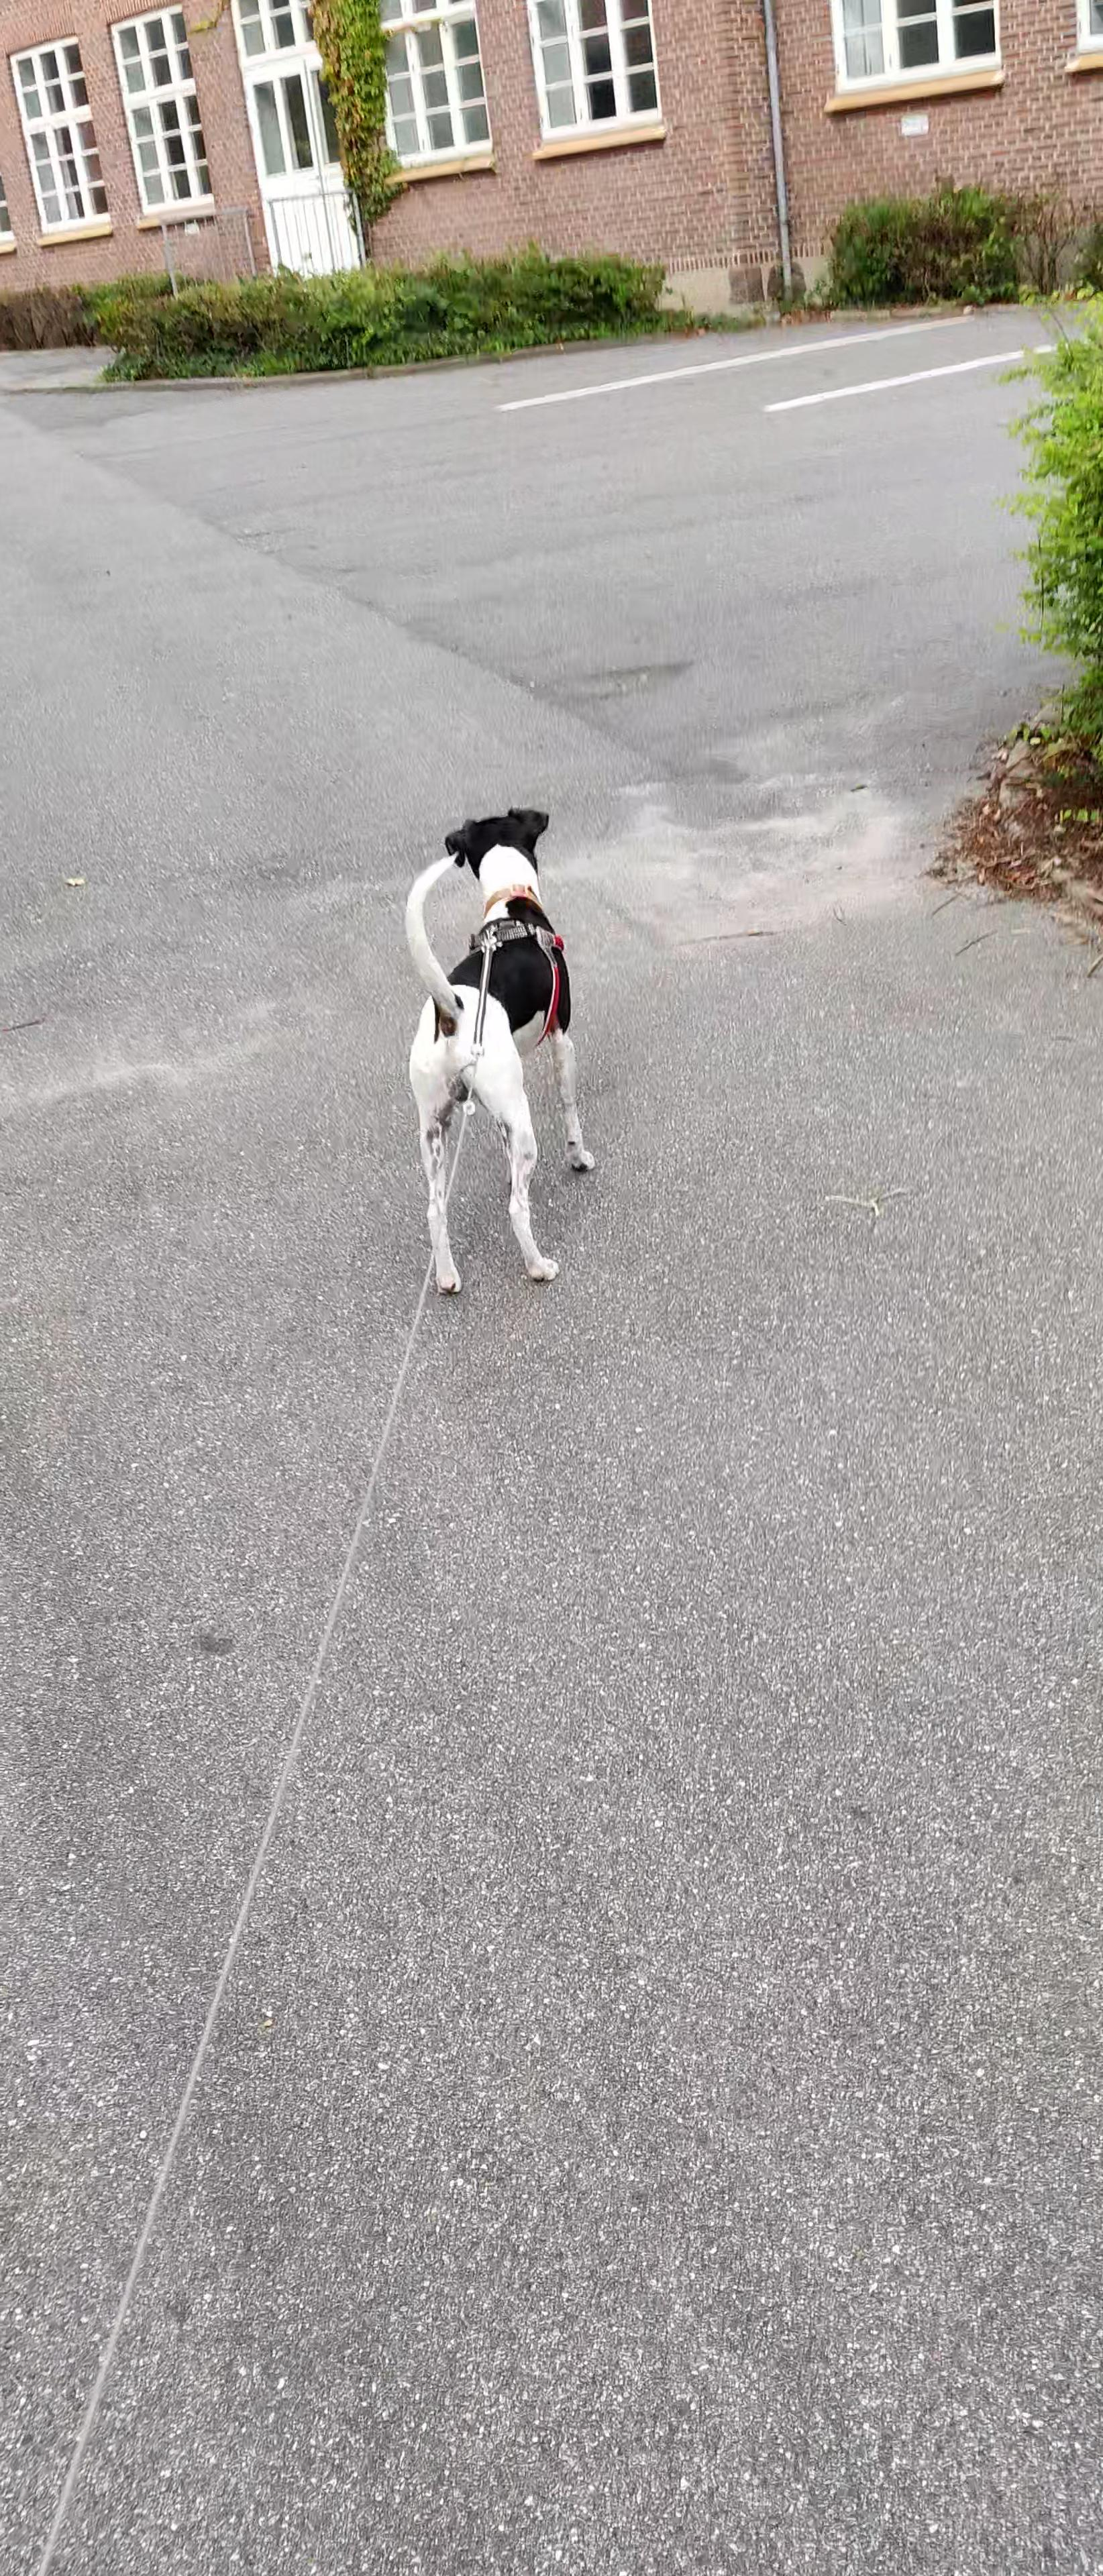Dog: (396, 798, 595, 1306)
